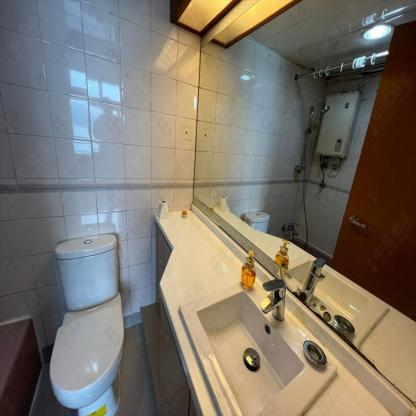Faucet: (262, 276, 287, 320)
Toilet: (47, 234, 124, 415), (243, 209, 270, 232)
Toilet Sink: (183, 282, 339, 415)
Water Heater: (316, 91, 361, 156)
